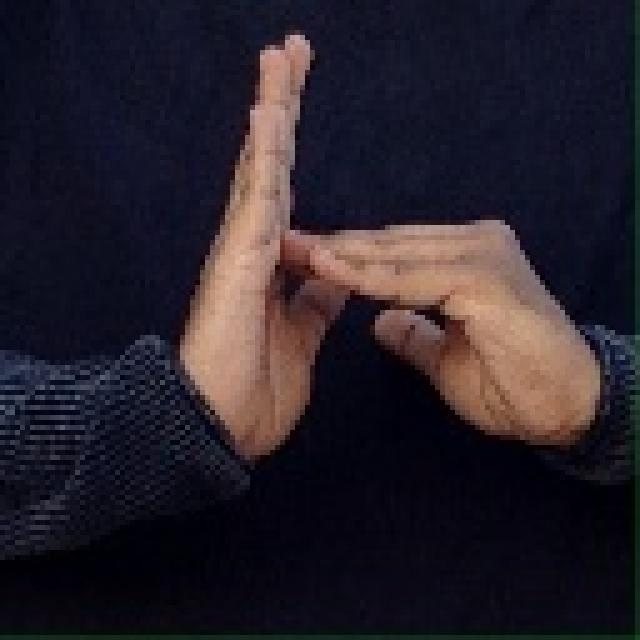Z: (193, 0, 534, 462)
